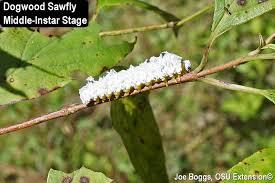insect: (77, 48, 194, 108)
